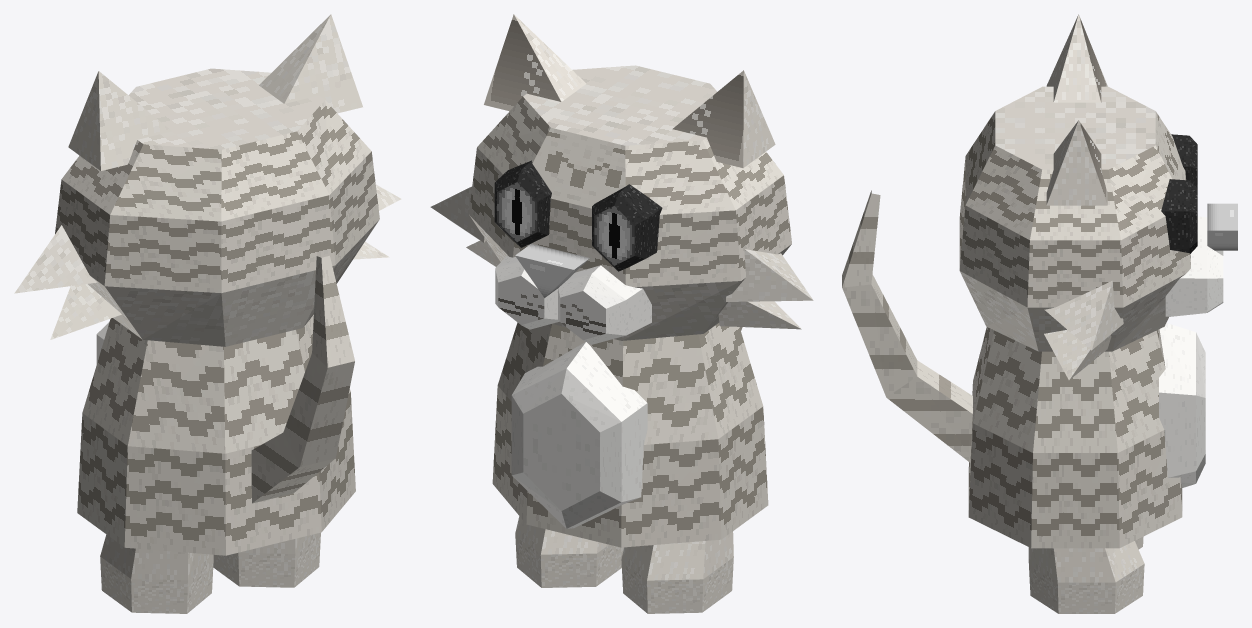
The model's file is cat.glb.
The picture shows the model from 3 angles, left to right: view 1: azimuth 30°, elevation 25°; view 2: azimuth 150°, elevation 25°; view 3: azimuth 270°, elevation 25°; orthographic projection. The views are drawn at different scales.
Parts seen in each view (by area): view 1: Head, Body, Tail, LegL, EarL, EarR, LegR; view 2: Head, Body, Belly, Muzzle, LegL, LegR, EarL, EarR, EyeL, EyeR, Nose; view 3: Head, Body, Tail, LegR, Belly, EarR, Muzzle, EarL, EyeR, Nose, EyeL.
Part boxes in pixels (x1,y1,x2,y2): Head: (14,68,401,346); Body: (77,314,355,555); Tail: (251,255,354,503); LegL: (100,534,213,613); EarL: (68,71,171,170); EarR: (259,14,362,113); LegR: (213,532,320,587); Head: (430,65,813,340); Body: (492,322,768,547); Belly: (511,342,647,528); Muzzle: (495,255,651,344); LegL: (621,531,733,613); LegR: (515,516,623,587); EarL: (672,70,775,167); EarR: (484,14,586,111); EyeL: (592,184,662,271); EyeR: (494,160,551,247); Nose: (515,243,589,297); Head: (959,86,1190,380); Body: (968,327,1182,548); Tail: (842,190,972,462); LegR: (1028,541,1144,613); Belly: (1159,323,1205,487); EarR: (1046,120,1107,205); Muzzle: (1165,216,1223,316); EarL: (1046,14,1107,102); EyeR: (1161,179,1197,253); Nose: (1207,203,1237,250); EyeL: (1171,134,1197,188).
Bounding box in the file's own units: 0.8125 × 1.08 × 0.7691.
Materials: 1 (1 with a texture image).
